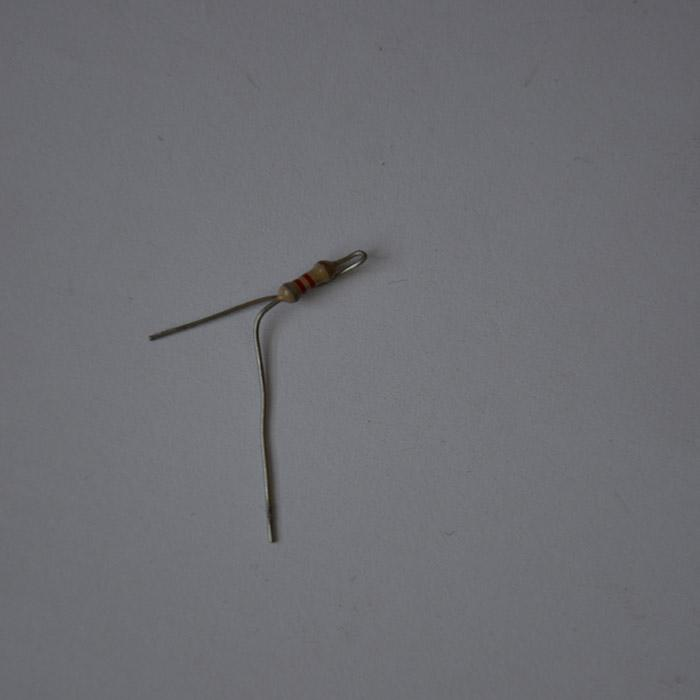resistor: (277, 258, 340, 304)
